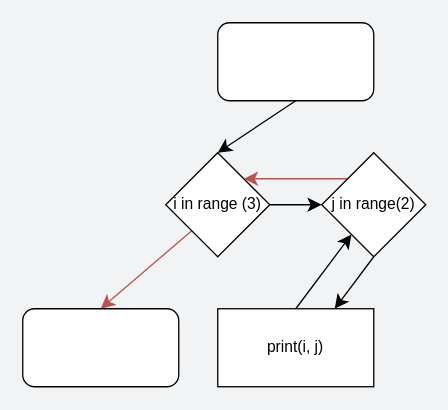
Image size: 448x410. Some labels were removed from this diagram. The shapes that lost their labels are listed below. From the top down, each one's box as (x1, y1, x2, y2) in pixels, then its label:
(216, 21, 374, 101): START
(21, 307, 179, 387): END
